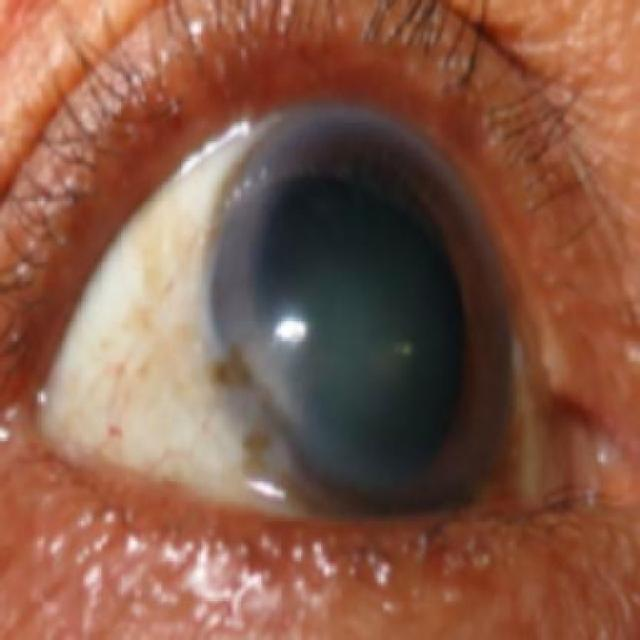Cataract: (210, 106, 514, 523)
